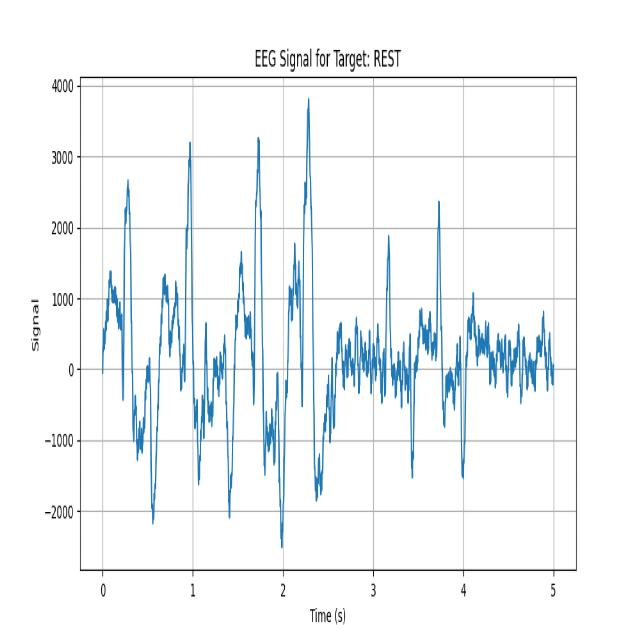LEFT: (214, 133, 281, 554), (285, 98, 340, 529), (163, 120, 208, 528), (112, 151, 155, 551), (421, 194, 464, 497)
